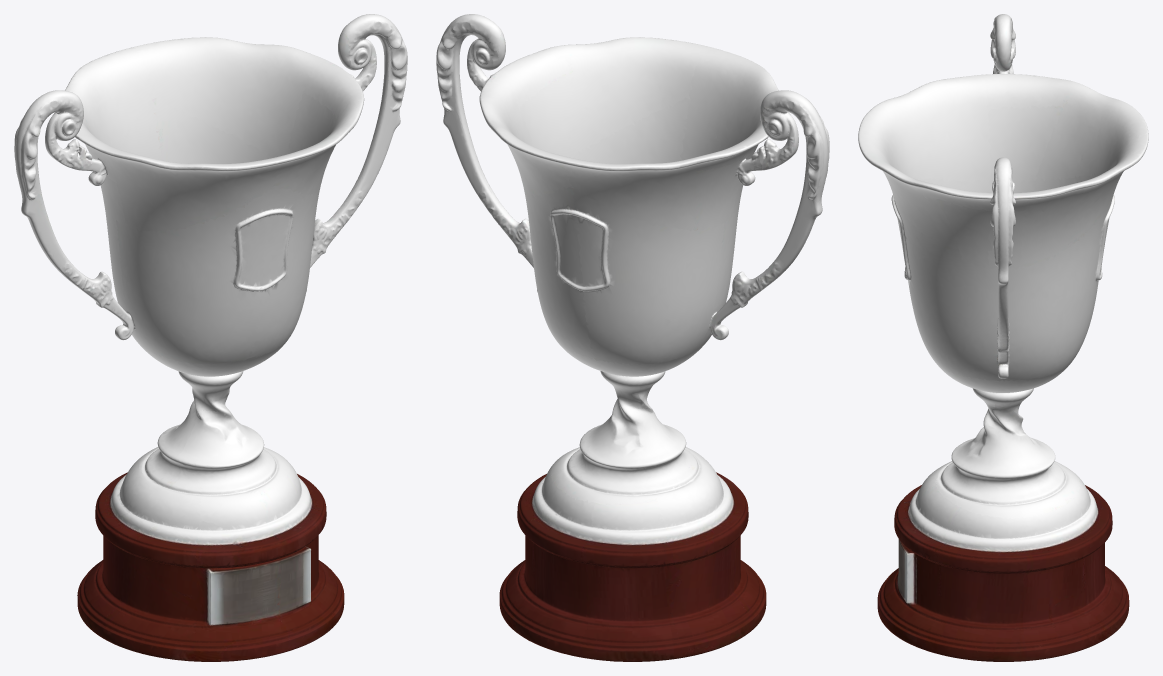
File: recEurope.glb
3 views of the same model, side by side, from view 1: azimuth 30°, elevation 25°; view 2: azimuth 150°, elevation 25°; view 3: azimuth 270°, elevation 25° (orthographic). The views are drawn at different scales.
Visible parts, largest first — view 1: mesh_node; view 2: mesh_node; view 3: mesh_node.
Boxes of the visible parts, bbox=[...] form: mesh_node: bbox=[14, 14, 407, 661]; mesh_node: bbox=[436, 14, 829, 661]; mesh_node: bbox=[858, 14, 1148, 661].
Bounding box in the file's own units: 1.4 × 1.9 × 0.9594.
1 material, 1 textured.
